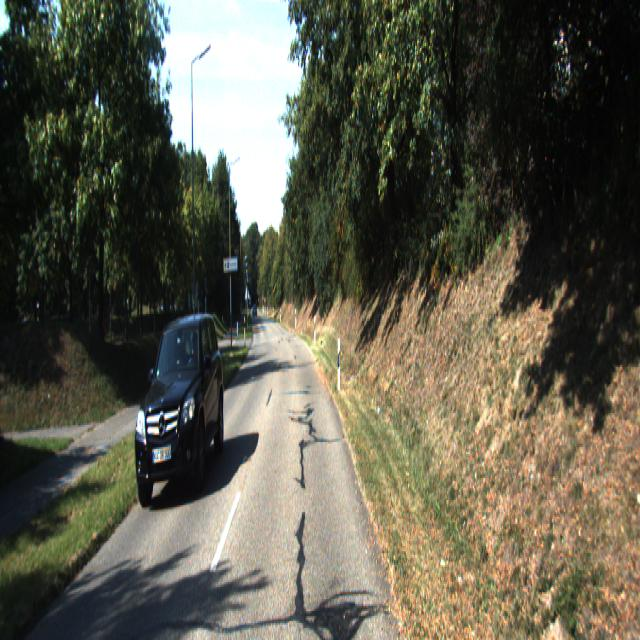Car: (134, 310, 225, 513)
